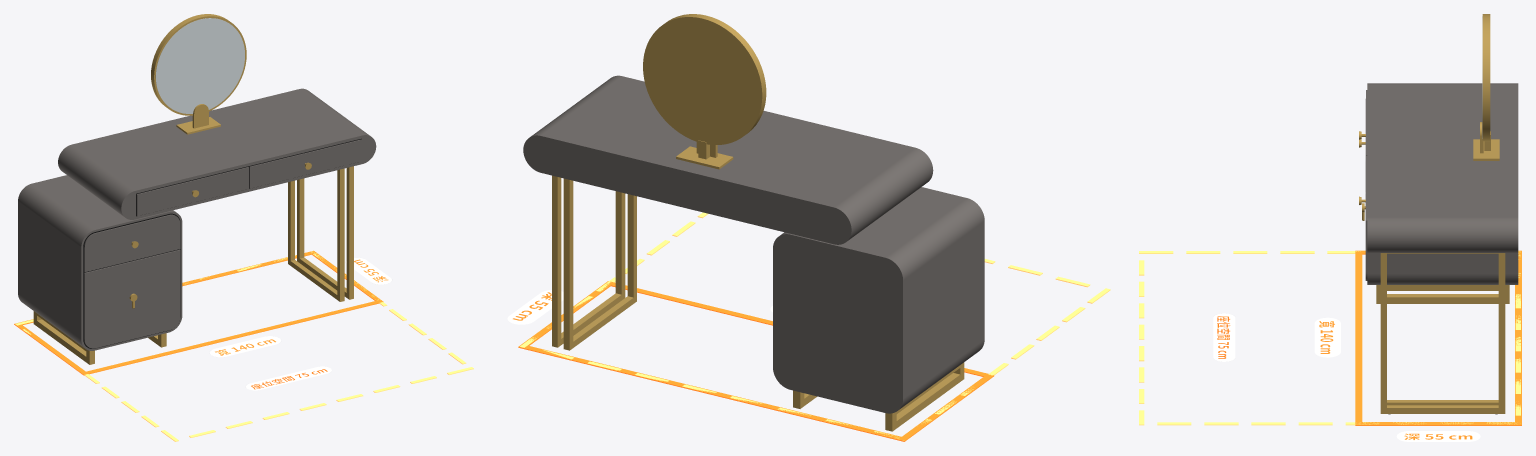
File: ownHemingway-f.glb
3 views of the same model, side by side, from view 1: azimuth 30°, elevation 25°; view 2: azimuth 150°, elevation 25°; view 3: azimuth 270°, elevation 25° (orthographic). The views are drawn at different scales.
Parts seen in each view (by area): view 1: object 1, object 9, object 12, object 47, ar-frame, object 11, object 3, object 6, object 34, object 40, object 46, object 10 (+4 smaller); view 2: object 9, object 1, object 46, ar-frame, object 38, object 32, object 34, object 24, object 40, object 36, object 30, object 42; view 3: object 1, ar-frame, object 9, object 32, object 18, object 46, object 34, object 30, object 19, object 36, object 42.
Boxes of the visible parts, left/top/right/bottom form: object 1: left=58, top=88, right=376, bottom=219; object 9: left=18, top=175, right=182, bottom=350; object 12: left=84, top=249, right=180, bottom=348; object 47: left=155, top=18, right=244, bottom=113; ar-frame: left=14, top=250, right=473, bottom=441; object 11: left=84, top=214, right=180, bottom=271; object 3: left=249, top=139, right=361, bottom=188; object 6: left=136, top=167, right=248, bottom=215; object 34: left=346, top=166, right=353, bottom=299; object 40: left=337, top=168, right=344, bottom=301; object 46: left=151, top=14, right=246, bottom=115; object 10: left=83, top=213, right=180, bottom=348; object 9: left=773, top=187, right=984, bottom=413; object 1: left=523, top=75, right=933, bottom=244; object 46: left=643, top=14, right=766, bottom=145; ar-frame: left=507, top=212, right=1110, bottom=441; object 38: left=563, top=178, right=573, bottom=349; object 32: left=552, top=175, right=561, bottom=347; object 34: left=615, top=191, right=625, bottom=300; object 24: left=885, top=372, right=964, bottom=431; object 40: left=627, top=194, right=636, bottom=302; object 36: left=563, top=295, right=636, bottom=350; object 30: left=552, top=292, right=625, bottom=347; object 42: left=676, top=146, right=733, bottom=169; object 1: left=1367, top=83, right=1518, bottom=252; ar-frame: left=1139, top=250, right=1521, bottom=441; object 9: left=1367, top=253, right=1518, bottom=284; object 32: left=1498, top=253, right=1505, bottom=413; object 18: left=1376, top=294, right=1509, bottom=303; object 46: left=1482, top=14, right=1490, bottom=141; object 34: left=1380, top=253, right=1386, bottom=413; object 30: left=1380, top=405, right=1505, bottom=413; object 19: left=1387, top=285, right=1498, bottom=290; object 36: left=1387, top=400, right=1498, bottom=405; object 42: left=1473, top=139, right=1499, bottom=160.
Size of the model in its own units: 1.56 by 1.26 by 1.32.
10 materials, 3 textured.
